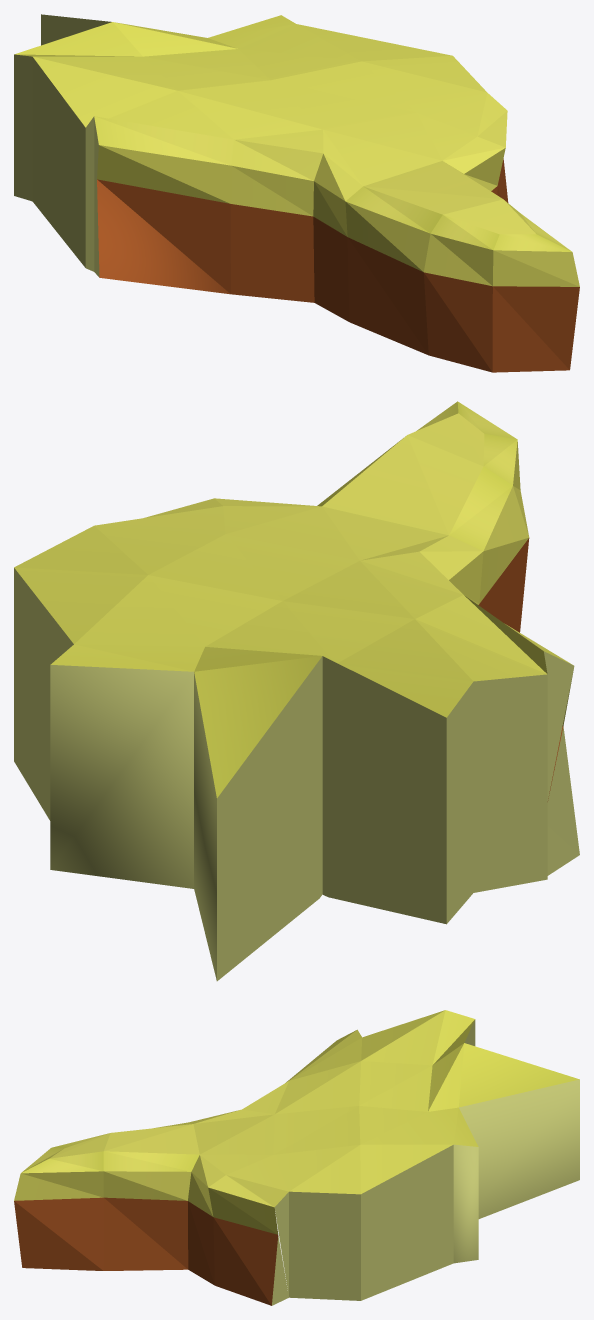
The model's file is asia_india.glb.
3 views of the same model, one above another, from view 1: azimuth 30°, elevation 25°; view 2: azimuth 150°, elevation 25°; view 3: azimuth 270°, elevation 25° (orthographic). The views are drawn at different scales.
Visible parts, largest first — view 1: asia_india; view 2: asia_india; view 3: asia_india.
Boxes of the visible parts, box(x1,y1,x2,y2) form: asia_india: box(14, 14, 579, 372); asia_india: box(14, 401, 579, 981); asia_india: box(14, 1010, 579, 1305).
Size of the model in its own units: 1.13 by 0.5525 by 1.84.
Materials: 2 (1 with a texture image).
